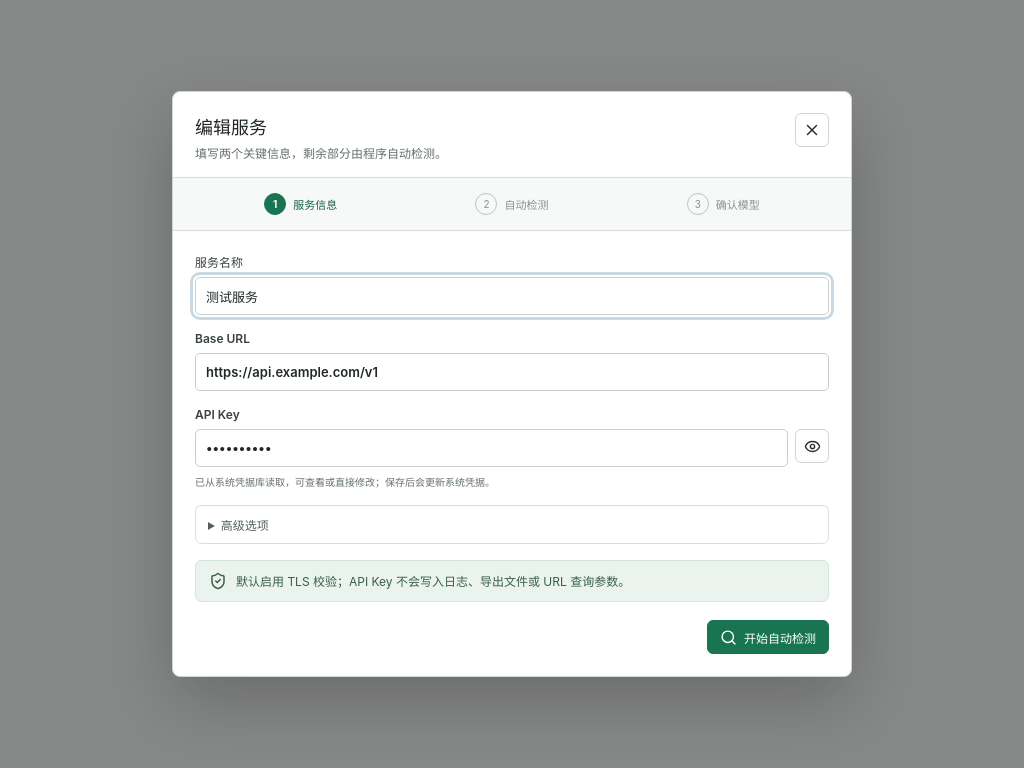
Test case: ProviderWizard 的验证入口门控 › 历史来自 store 中的 provider 而不是传入的 initial 快照
Expected: the text "已从系统凭据库读取，可查看或直接修改；保存后会更新系统凭据。" is shown, [195, 476, 495, 488]
Click the button "开始自动检测" at [768, 637], box [707, 620, 829, 654]
(page scrolled)
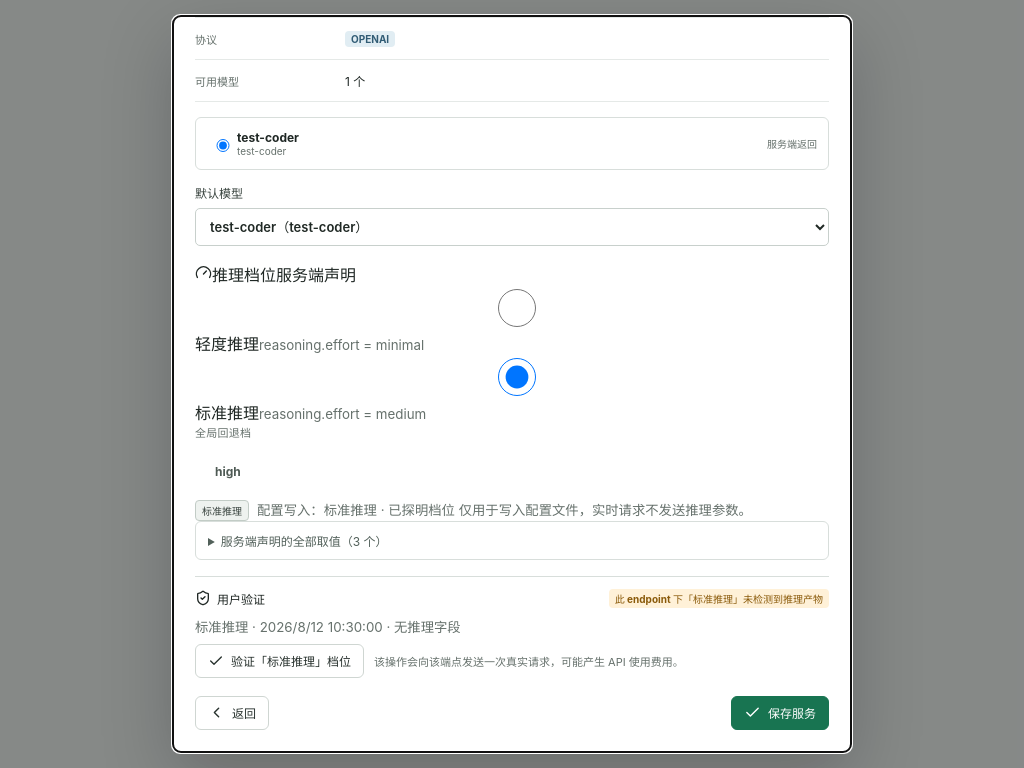
Now the element labelled "推理档位" is shown, box [195, 262, 829, 678]
Now the text "此 endpoint 下「标准推理」未检测到推理产物" is shown, box [609, 589, 829, 608]
Now the text "标准推理 · 2026/8/12 10:30:00 · 无推理字段" is shown, box [195, 619, 461, 635]
